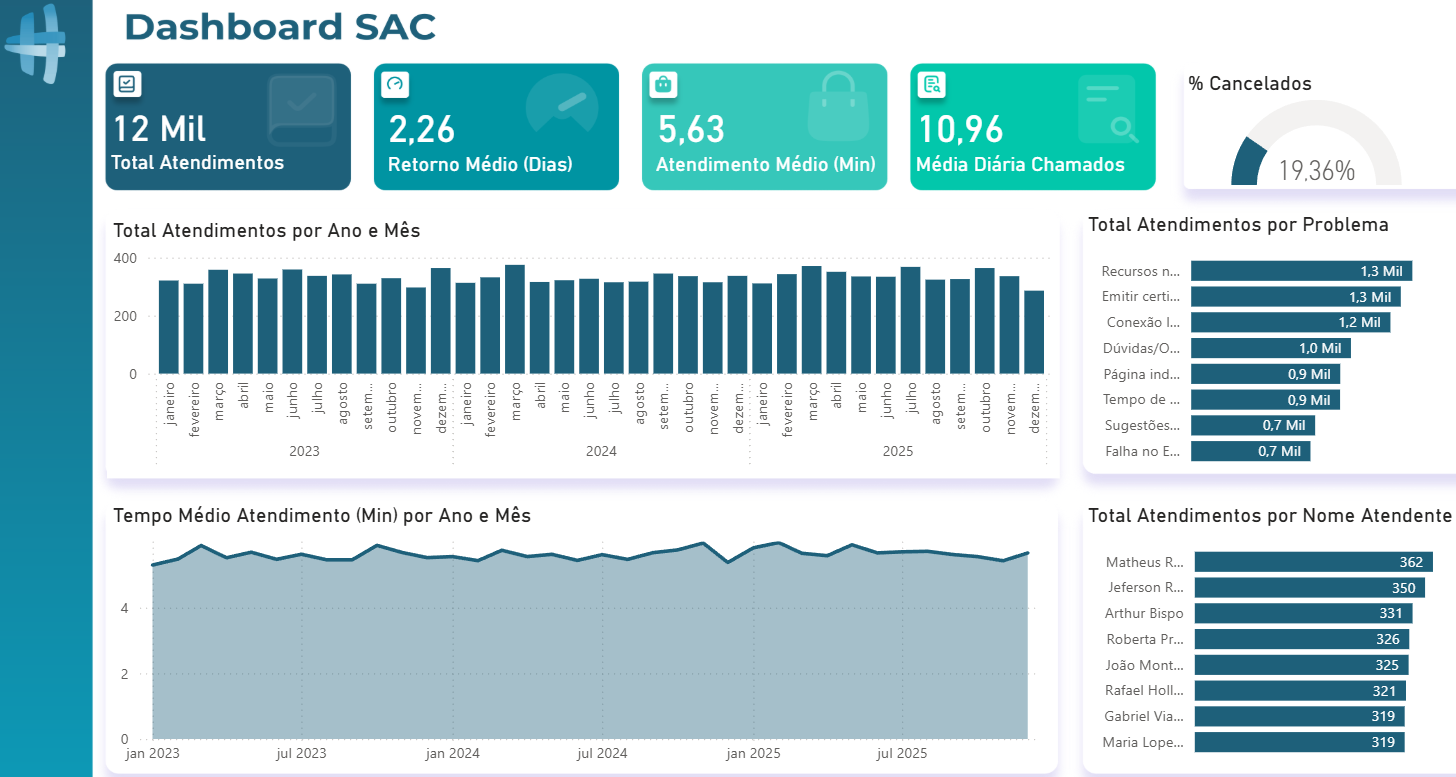

Layout of this report page (visuals, bound fields, positions):
{"tool":"powerbi","page":{"name":"Página 1","canvas":[1280,720],"ordinal":0},"visuals":[{"type":"cardVisual","fields":{"Data":["fOcorrencias.Total Atendimentos"]},"box":[67.5,63.3,243.3,115],"z":0},{"type":"cardVisual","fields":{"Data":["fOcorrencias.Tempo Médio Retorno (Dias)"]},"box":[298.3,63.3,244.2,115],"z":1000},{"type":"cardVisual","fields":{"Data":["fOcorrencias.Tempo Médio Atendimento (Min)"]},"box":[521.7,63.3,266.7,115],"z":2000},{"type":"cardVisual","fields":{"Data":["fOcorrencias.Média Diária Chamados"]},"box":[738.3,63.3,267.5,115],"z":3000},{"type":"gauge","fields":{"Y":["fOcorrencias.% Cancelados"]},"box":[989.2,63.3,224.2,100],"z":4000},{"type":"columnChart","fields":{"Y":["fOcorrencias.Total Atendimentos"],"Category":["fOcorrencias.Data Chamado.Variation.Hierarquia de datas.Ano","fOcorrencias.Data Chamado.Variation.Hierarquia de datas.Mês"]},"box":[93.3,185.8,794.2,216.7],"z":5000},{"type":"areaChart","fields":{"Y":["fOcorrencias.Tempo Médio Atendimento (Min)"],"Category":["fOcorrencias.Data Chamado.Variation.Hierarquia de datas.Ano","fOcorrencias.Data Chamado.Variation.Hierarquia de datas.Mês"]},"box":[93.3,423.3,793.3,226.7],"z":6000},{"type":"barChart","fields":{"Y":["fOcorrencias.Total Atendimentos"],"Category":["dProblema.Problema"]},"box":[905.8,180.8,313.3,221.7],"z":7000},{"type":"barChart","fields":{"Category":["dSuporte.Nome Atendente"],"Y":["fOcorrencias.Total Atendimentos"]},"box":[905.8,423.3,324.2,221.7],"z":7001}]}

Visuals, with their boxes on the page's 1280x720 design canvas (x1, y1, x2, y2). These are canvas units, not pixel positions in the 1456x777 screenshot, which may show the page scaled, cropped or inside an application window:
cardVisual - fOcorrencias.Total Atendimentos: l=68, t=63, r=311, b=178
cardVisual - fOcorrencias.Tempo Médio Retorno (Dias): l=298, t=63, r=542, b=178
cardVisual - fOcorrencias.Tempo Médio Atendimento (Min): l=522, t=63, r=788, b=178
cardVisual - fOcorrencias.Média Diária Chamados: l=738, t=63, r=1006, b=178
gauge - fOcorrencias.% Cancelados: l=989, t=63, r=1213, b=163
columnChart - fOcorrencias.Total Atendimentos x fOcorrencias.Data Chamado.Variation.Hierarquia de datas.Ano: l=93, t=186, r=888, b=402
areaChart - fOcorrencias.Tempo Médio Atendimento (Min) x fOcorrencias.Data Chamado.Variation.Hierarquia de datas.Ano: l=93, t=423, r=887, b=650
barChart - fOcorrencias.Total Atendimentos x dProblema.Problema: l=906, t=181, r=1219, b=402
barChart - dSuporte.Nome Atendente x fOcorrencias.Total Atendimentos: l=906, t=423, r=1230, b=645
